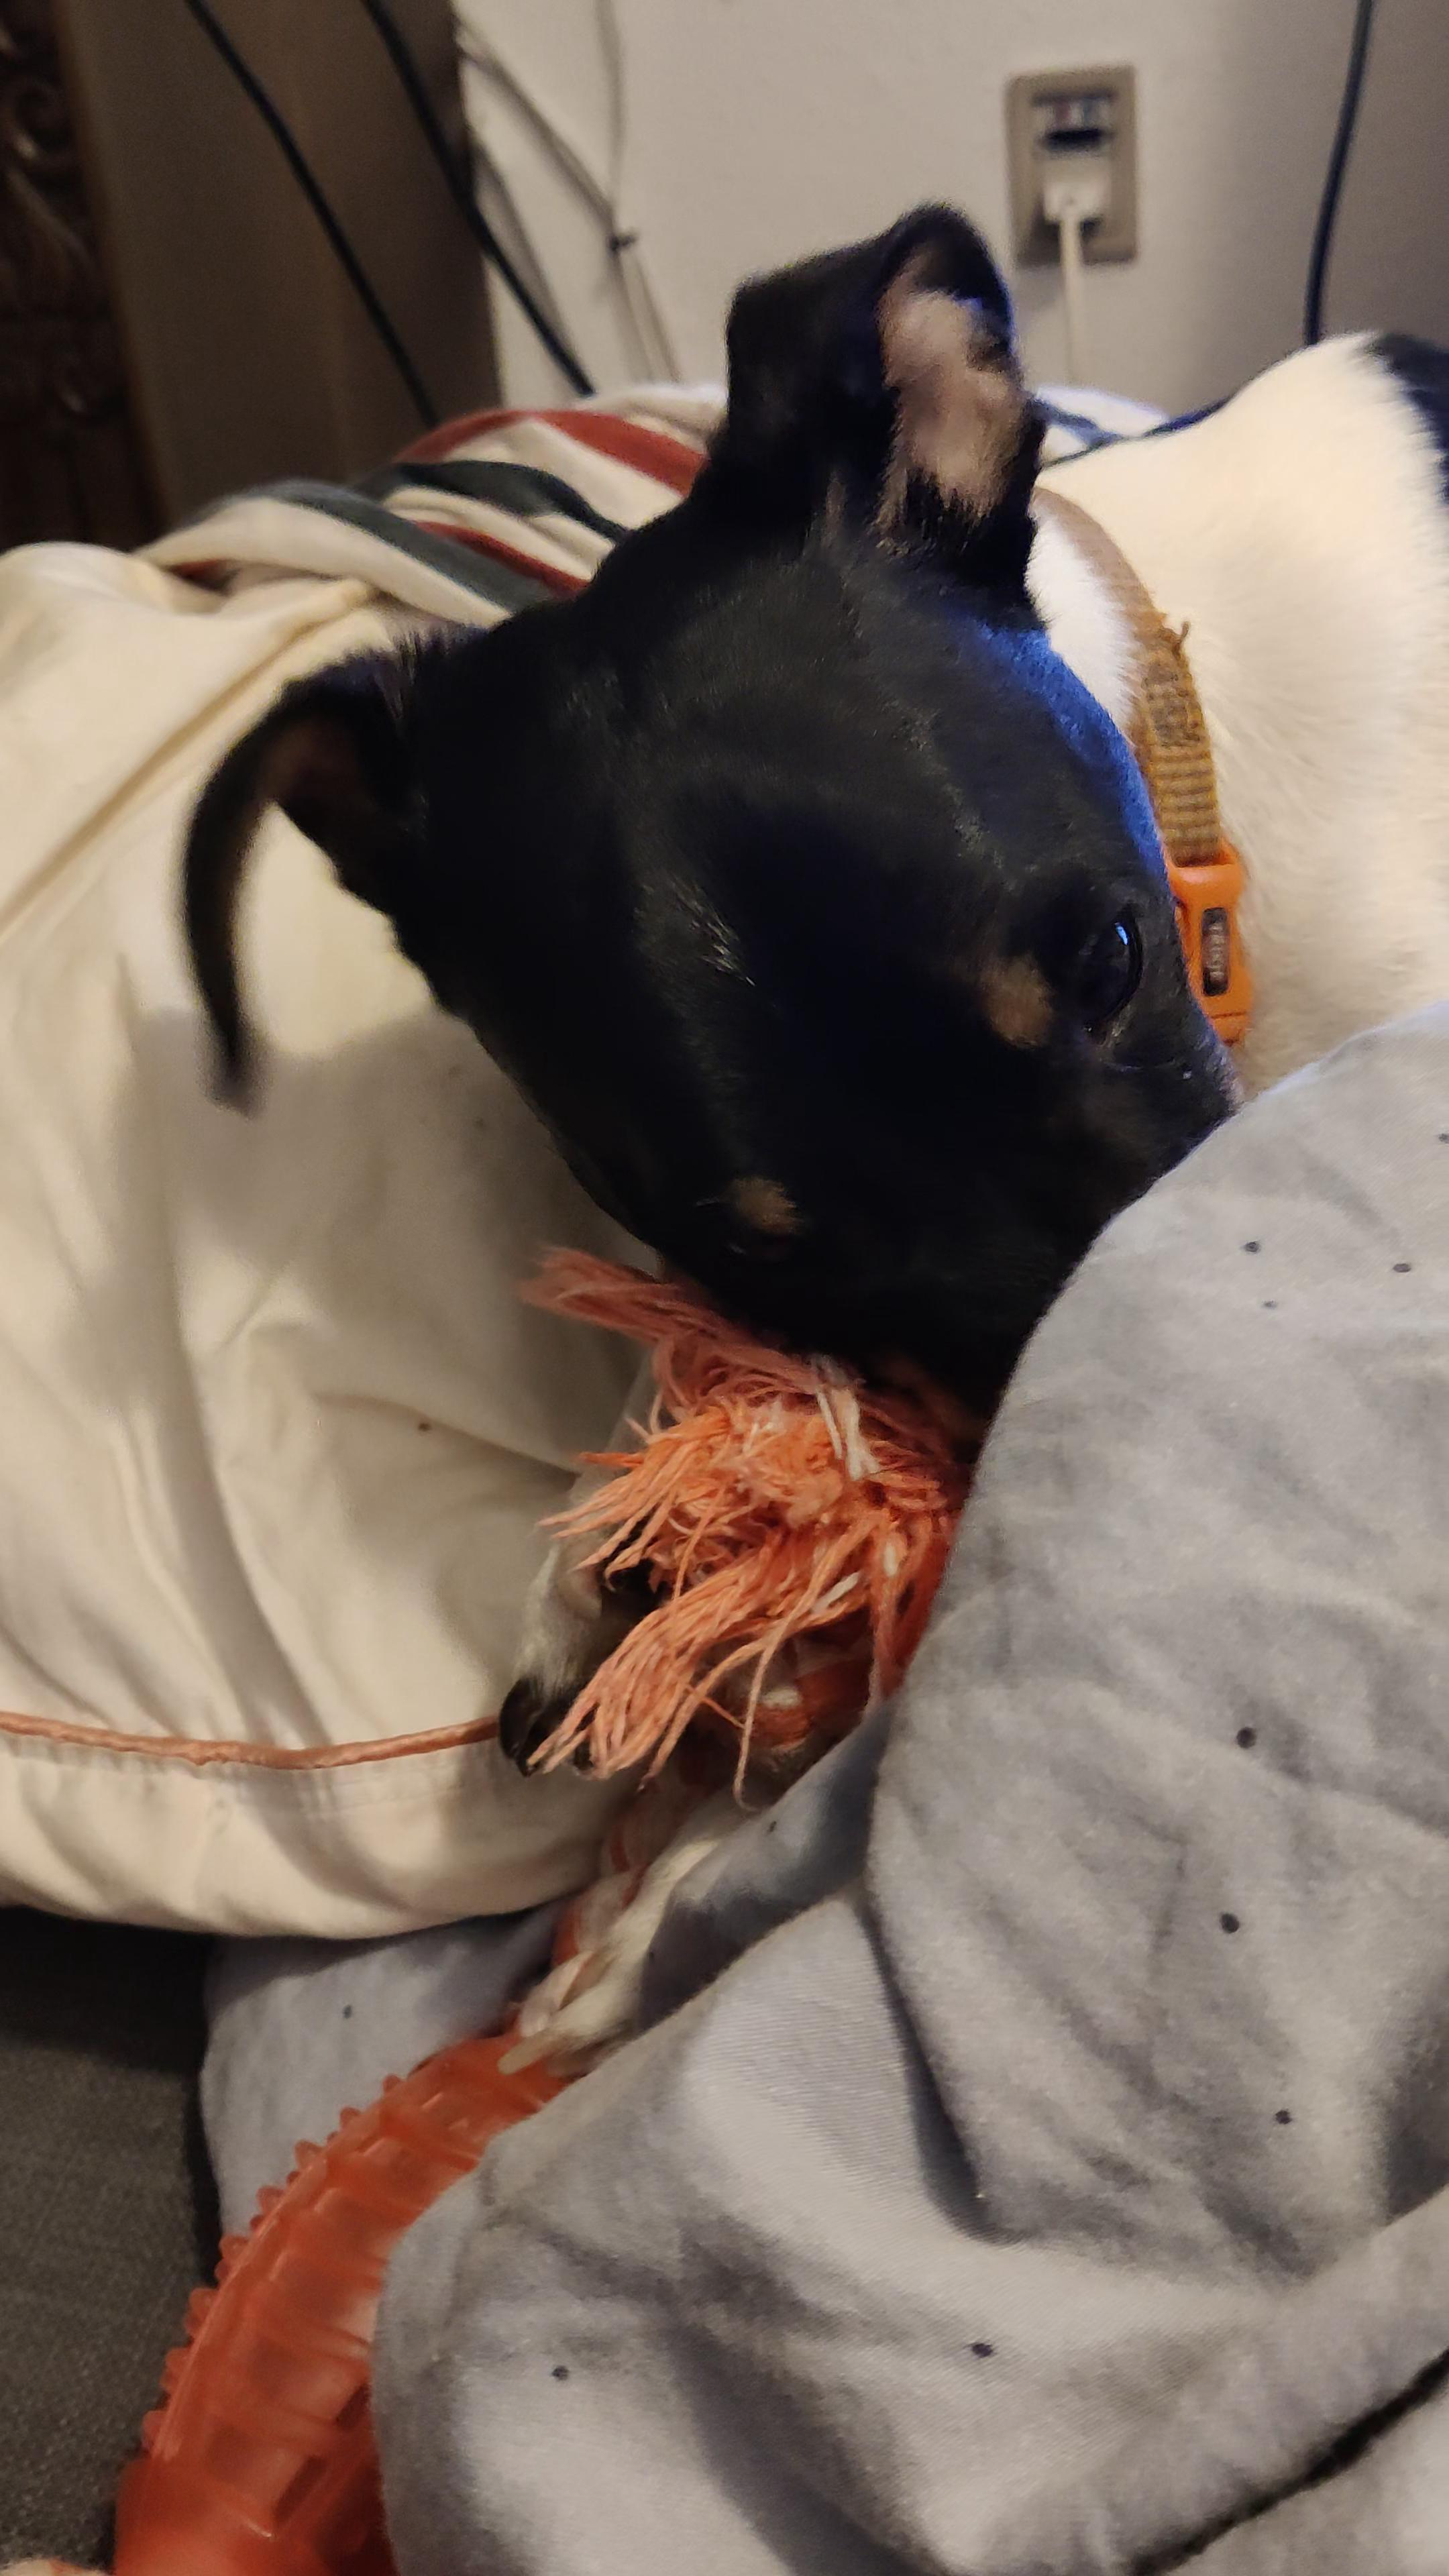Dog: (110, 180, 1449, 2111)
